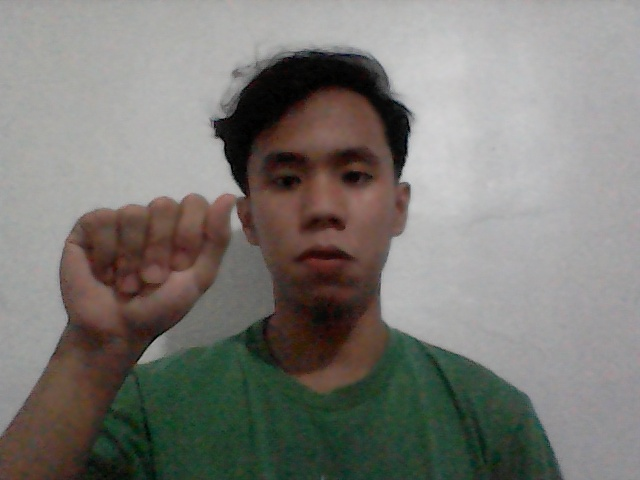A: (36, 178, 253, 365)
